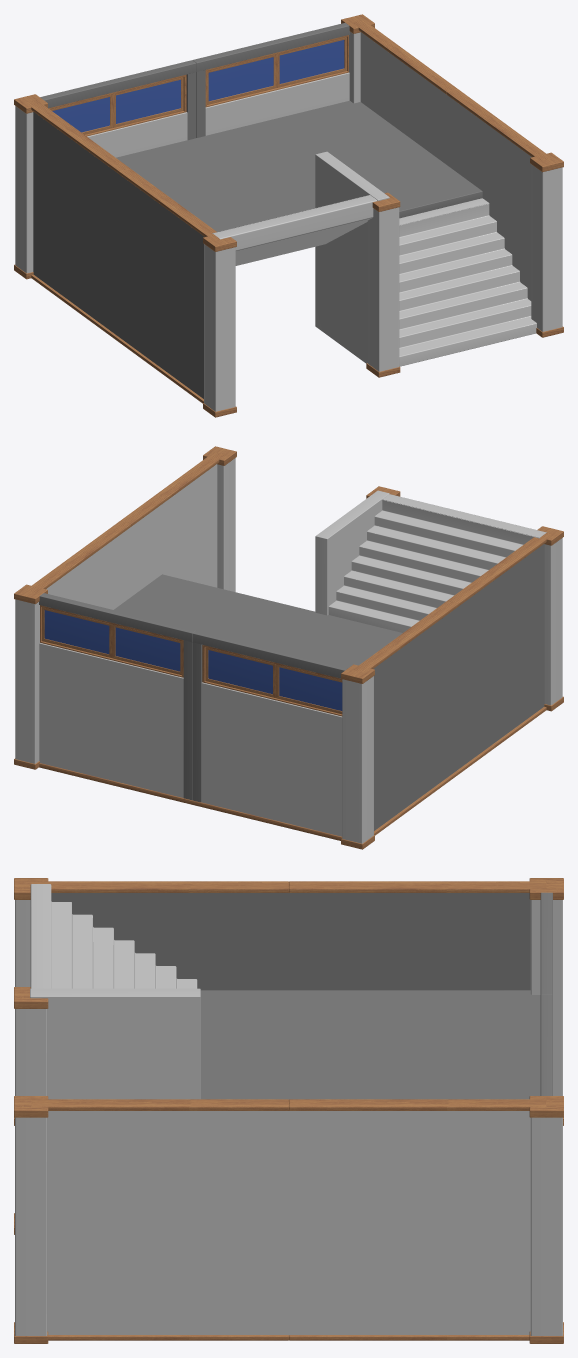
Rendered from SM_Staircase_big.fbx.
3 renders of one model, top to bottom at view 1: azimuth 30°, elevation 25°; view 2: azimuth 150°, elevation 25°; view 3: azimuth 270°, elevation 25°, orthographic. The views are drawn at different scales.
Visible parts, largest first — view 1: staircase01; view 2: staircase01; view 3: staircase01.
Boxes of the visible parts, left/top/right/bottom form: staircase01: left=14, top=14, right=563, bottom=417; staircase01: left=14, top=446, right=563, bottom=849; staircase01: left=14, top=878, right=563, bottom=1343.
Size of the model in its own units: 336 by 159 by 336.
